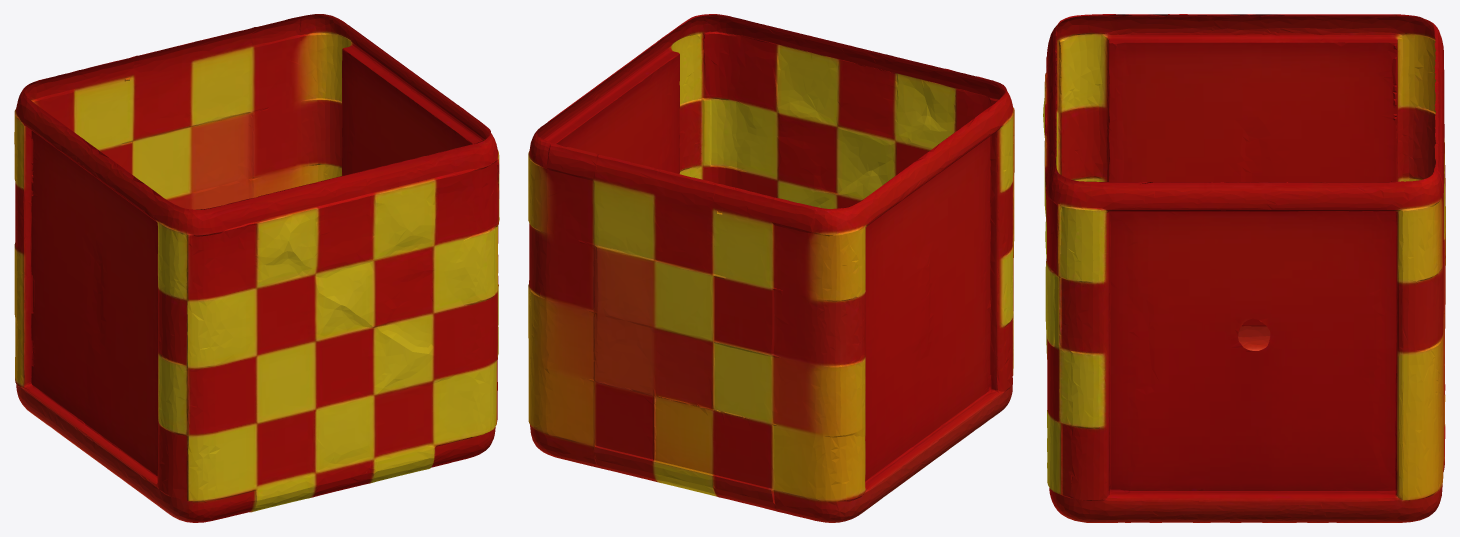
Rendered from body.glb.
3 views of the same model, side by side, from view 1: azimuth 30°, elevation 25°; view 2: azimuth 150°, elevation 25°; view 3: azimuth 270°, elevation 25° (orthographic). The views are drawn at different scales.
Parts seen in each view (by area): view 1: source_surface_0; view 2: source_surface_0; view 3: source_surface_0.
Boxes of the visible parts, x1,y1,x2,y2 form: source_surface_0: [14, 14, 499, 522]; source_surface_0: [528, 14, 1014, 522]; source_surface_0: [1043, 14, 1445, 522].
Bounding box in the file's own units: 0.1653 × 0.1529 × 0.1597.
1 material, 1 textured.
